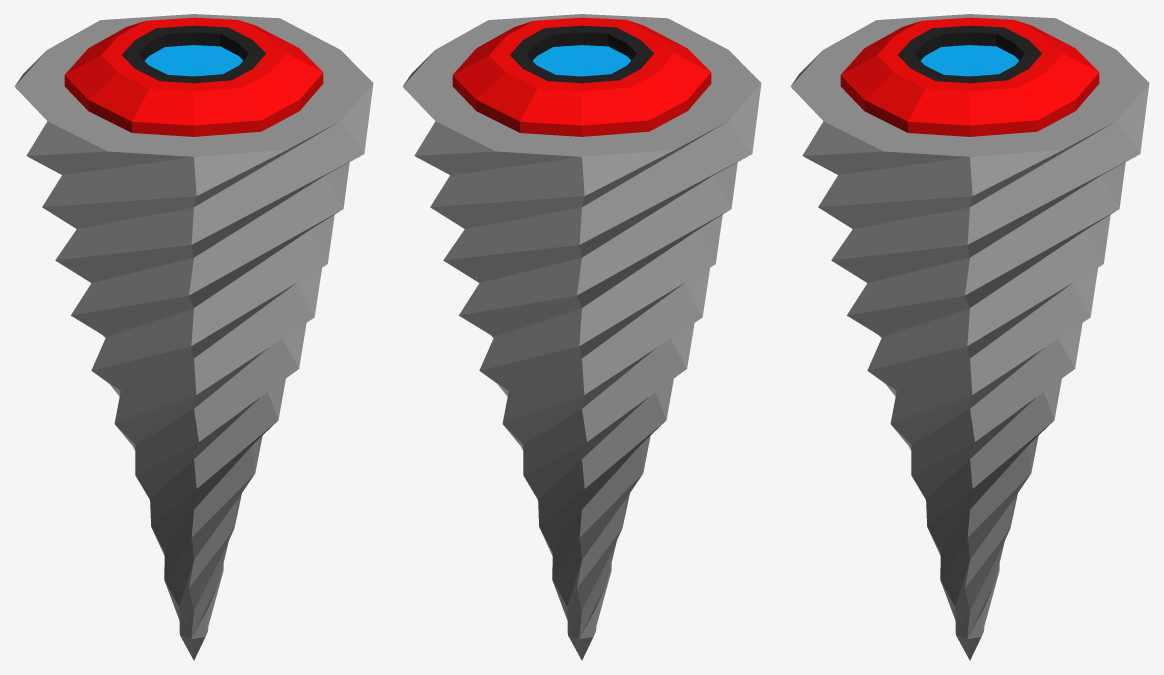
The model's file is SM_MapModel_DrillHead.FBX.
3 renders of one model, left to right at view 1: azimuth 30°, elevation 25°; view 2: azimuth 150°, elevation 25°; view 3: azimuth 270°, elevation 25°, orthographic.
Visible parts, largest first — view 1: Object; view 2: Object; view 3: Object.
Part boxes in pixels (box(x1,y1,x2,y2)): Object: box(14, 14, 373, 660); Object: box(402, 14, 761, 660); Object: box(790, 14, 1149, 660).
Size of the model in its own units: 47.11 by 80.78 by 43.32.
